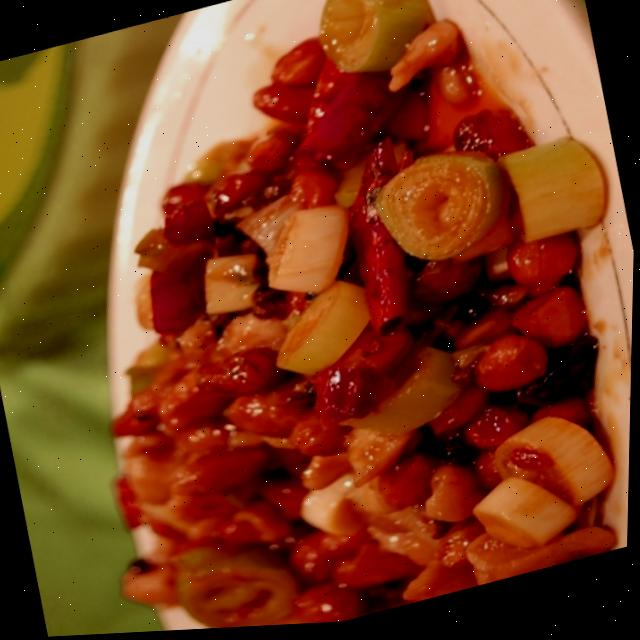鸡肉料理 含炸鸡: (2, 0, 640, 639)
